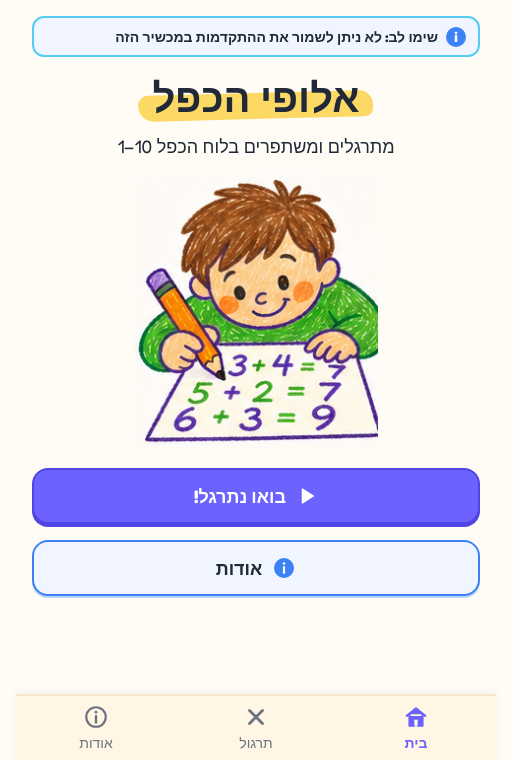
Saving on this device › keeps practice working with a warning when writing is blocked
Expected: the text "שימו לב: לא ניתן לשמור את ההתקדמות במכשיר הזה" is shown, 115,28 -> 438,45
Click the button "תרגול".
click(256, 728)  # box 176,696 -> 336,759
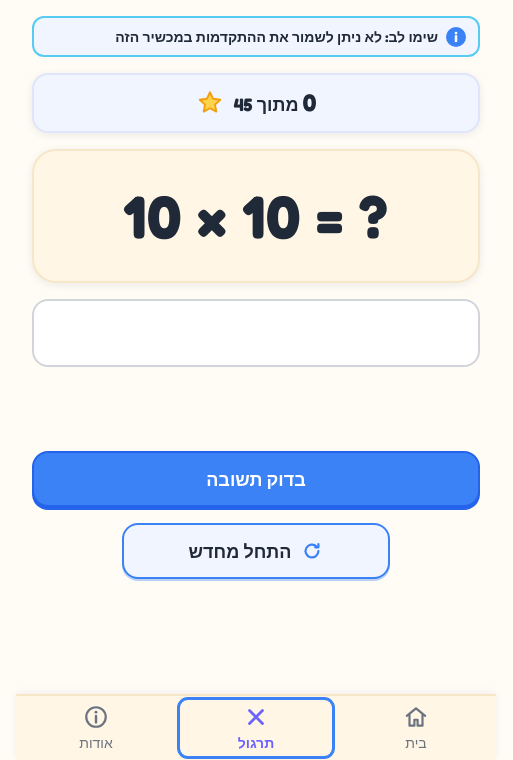
Expected: the text "שימו לב: לא ניתן לשמור את ההתקדמות במכשיר הזה" is shown, 115,28 -> 438,45
Type "100" into the field named "התשובה שלך".
click(256, 333); type("100")  # box 32,299 -> 480,367
Then press Enter
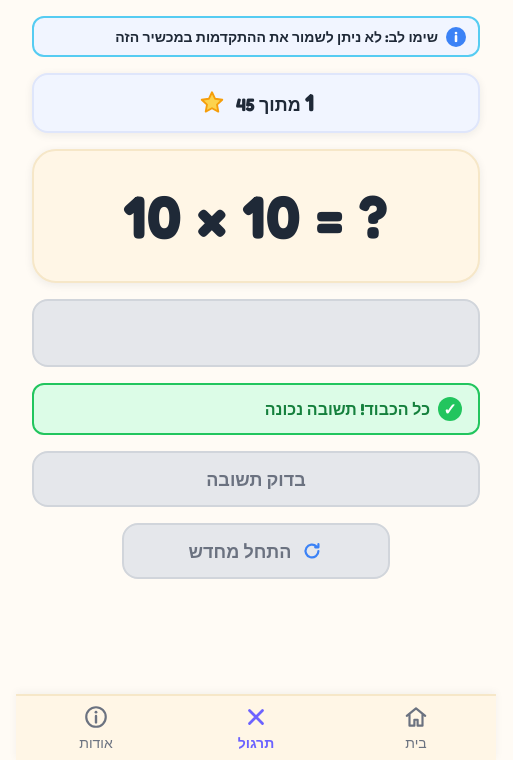
Result: the text "1" is shown at 305,88 -> 314,117
Result: the text "כל הכבוד! תשובה נכונה" is shown at 265,399 -> 430,419
